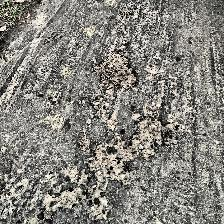pothole: (84, 136, 130, 182), (90, 49, 138, 91), (129, 114, 165, 158)
